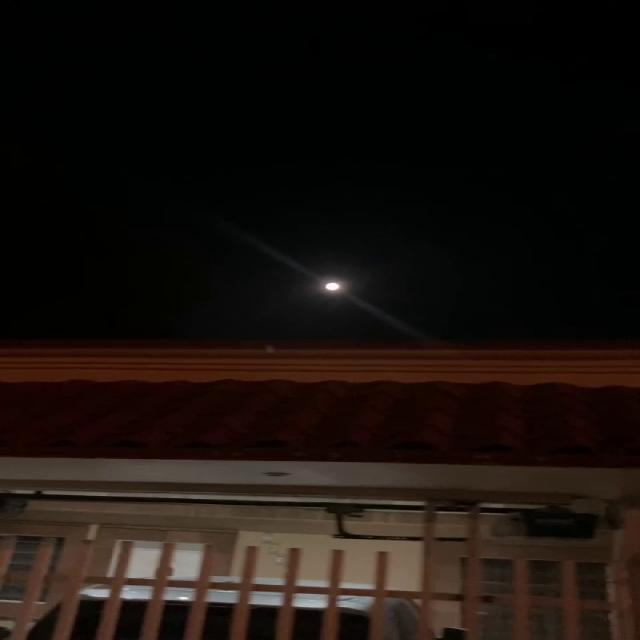moon: (318, 275, 350, 299)
